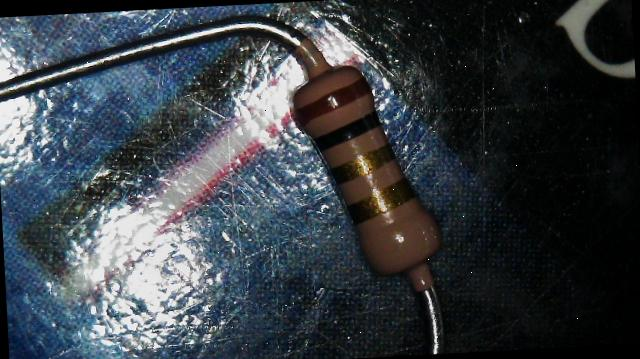black: (312, 110, 381, 151)
brown: (291, 76, 370, 124)
gold: (345, 176, 417, 225), (328, 142, 395, 183)
resistor: (246, 28, 486, 303)
